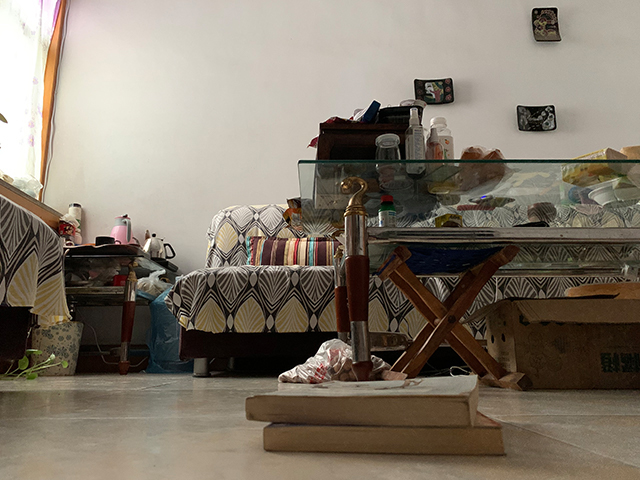book: (243, 374, 475, 430), (263, 421, 506, 456)
sofa: (163, 196, 342, 372)
stool: (372, 242, 536, 392)
table: (297, 157, 640, 381), (64, 251, 175, 371)
trashcan: (32, 322, 80, 377)
wire: (82, 326, 115, 369)
